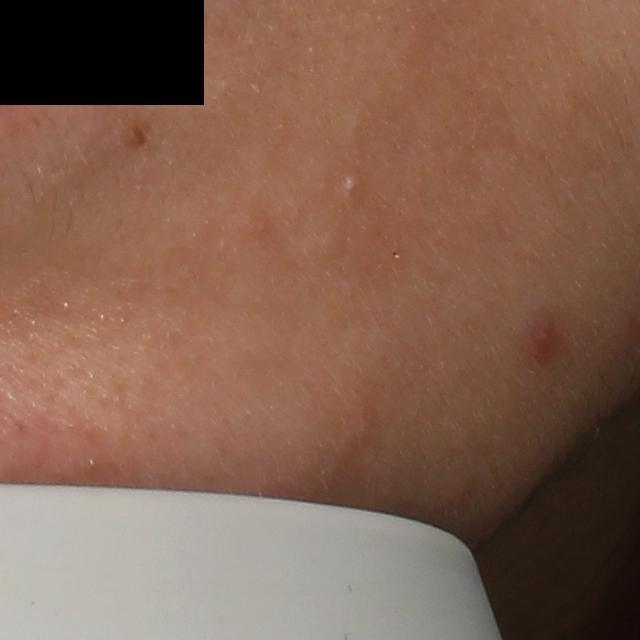comedo: (339, 172, 364, 197)
papule: (531, 316, 558, 356)
